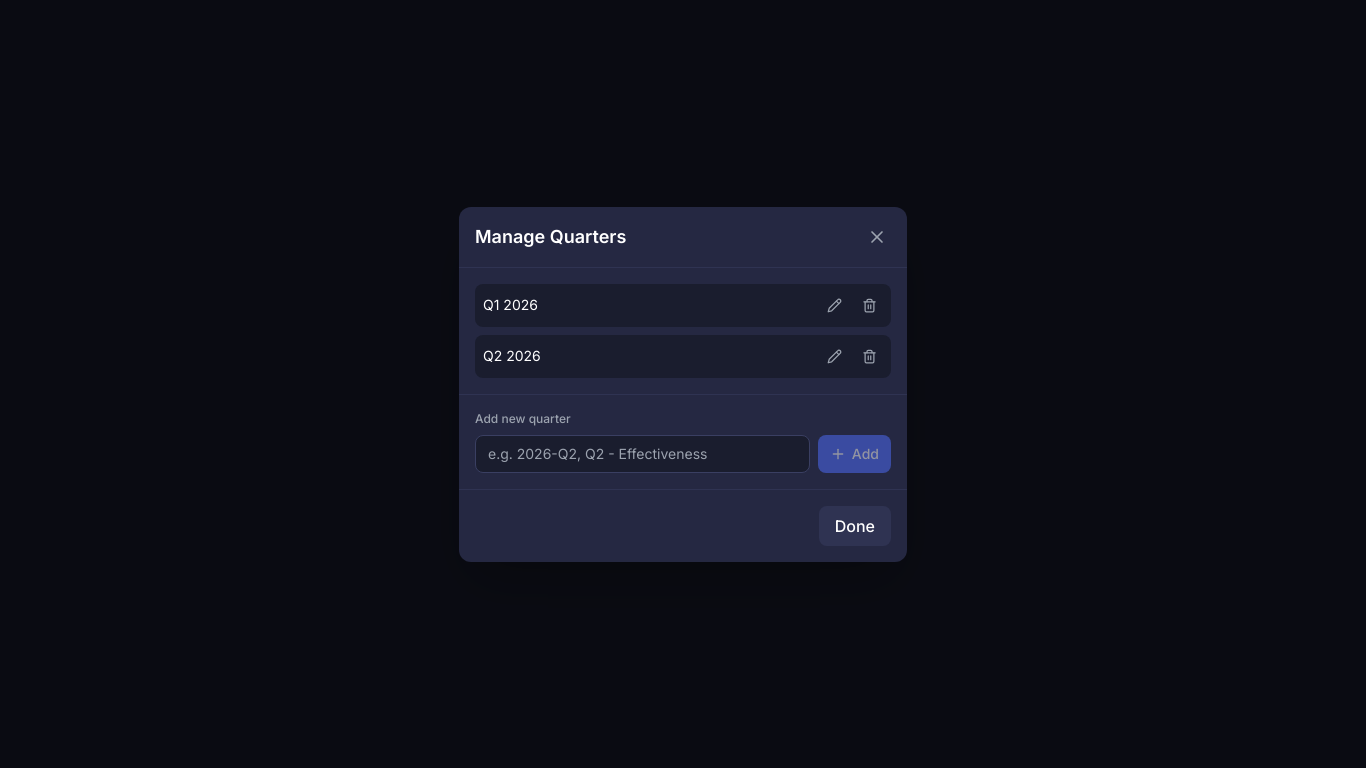
Test: QuarterModal › shows duplicate error when same quarter name entered
Type "Q1 2026" into the field with placeholder "e.g. 2026-Q2, Q2 - Effectiveness". click: (642, 454)
box: [475, 434, 810, 472]
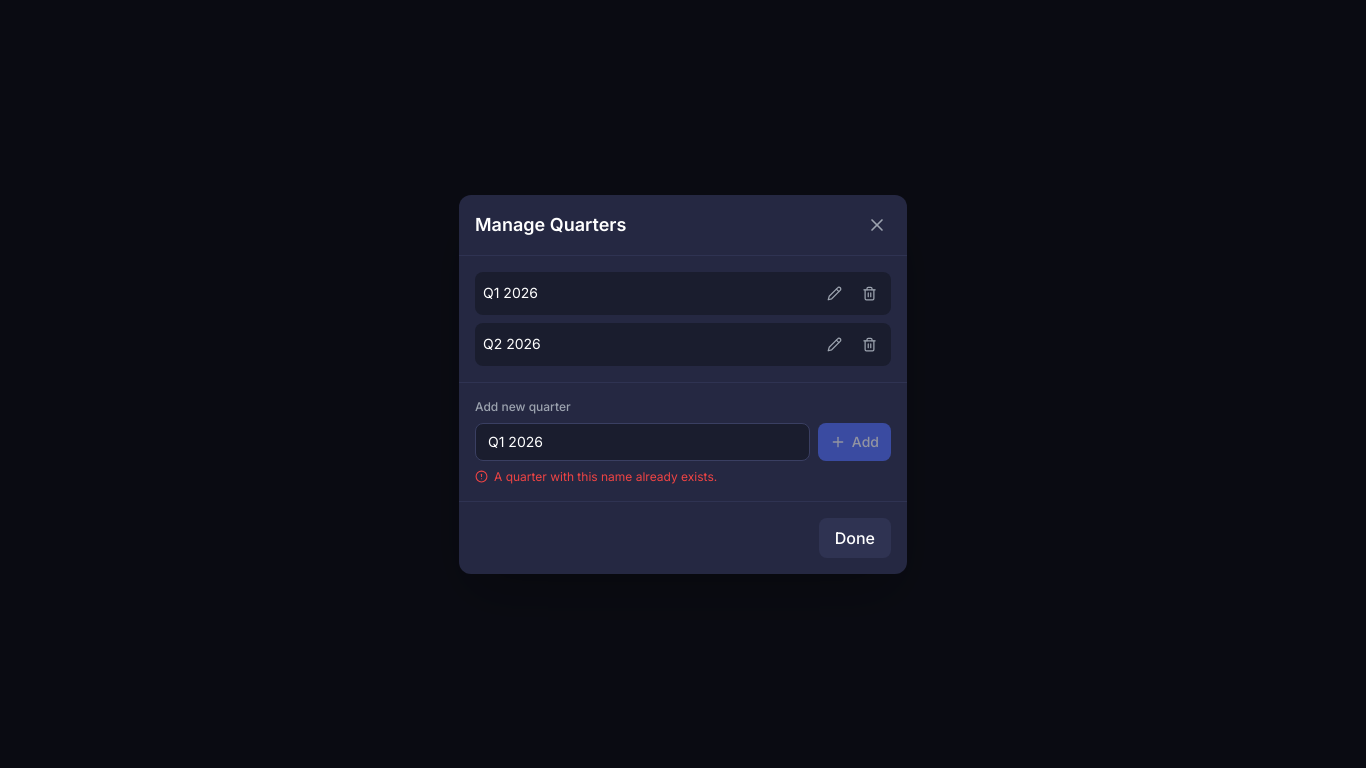
Result: the text "A quarter with this name already exists." is shown at [494, 468, 717, 484]
